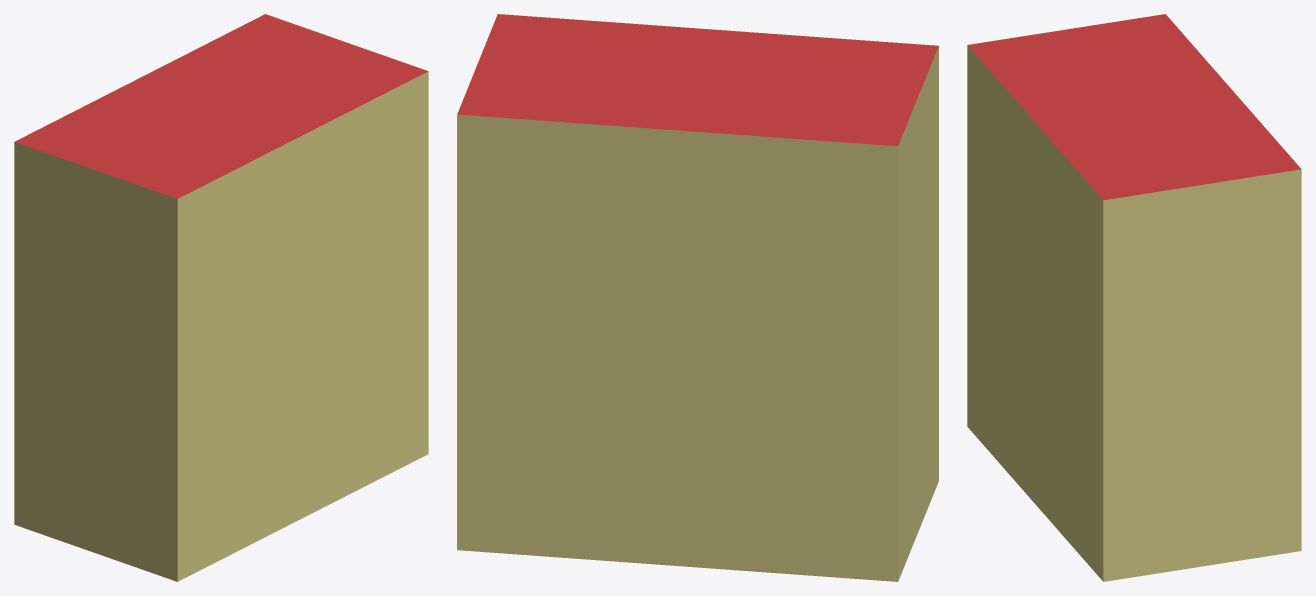
3 views of the same model, side by side, from view 1: azimuth 30°, elevation 25°; view 2: azimuth 150°, elevation 25°; view 3: azimuth 270°, elevation 25° (orthographic). The views are drawn at different scales.
Size of the model in its own units: 6.11 by 4.63 by 5.84.
